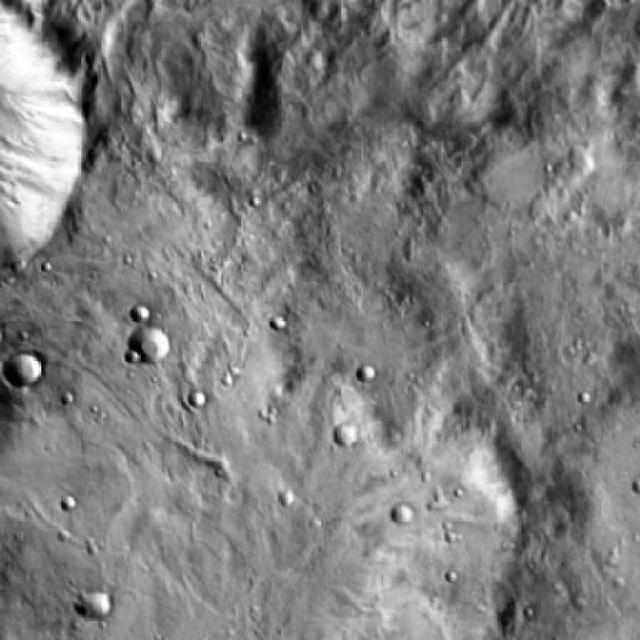crater: (0, 0, 91, 268), (1, 352, 42, 388), (127, 326, 168, 362), (77, 590, 111, 622), (335, 426, 360, 448), (392, 504, 413, 524), (132, 302, 152, 320), (358, 366, 376, 382), (187, 392, 205, 408)
